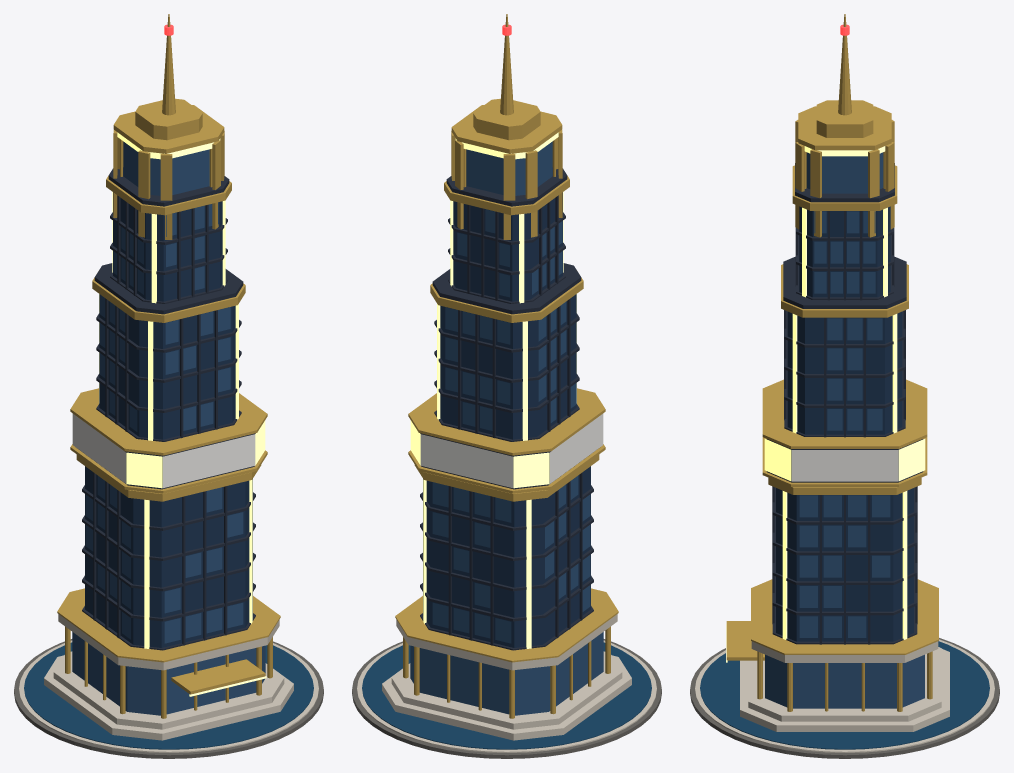
Rendered from hq-binomar.glb.
3 views of the same model, side by side, from view 1: azimuth 30°, elevation 25°; view 2: azimuth 150°, elevation 25°; view 3: azimuth 270°, elevation 25° (orthographic).
Visible parts, largest first — view 1: hq-binomar; view 2: hq-binomar; view 3: hq-binomar.
Boxes of the visible parts, <box> form: hq-binomar: <box>14,14,323,758</box>; hq-binomar: <box>352,14,661,758</box>; hq-binomar: <box>690,14,999,758</box>.
Bounding box in the file's own units: 18.6 × 44.98 × 18.6.
